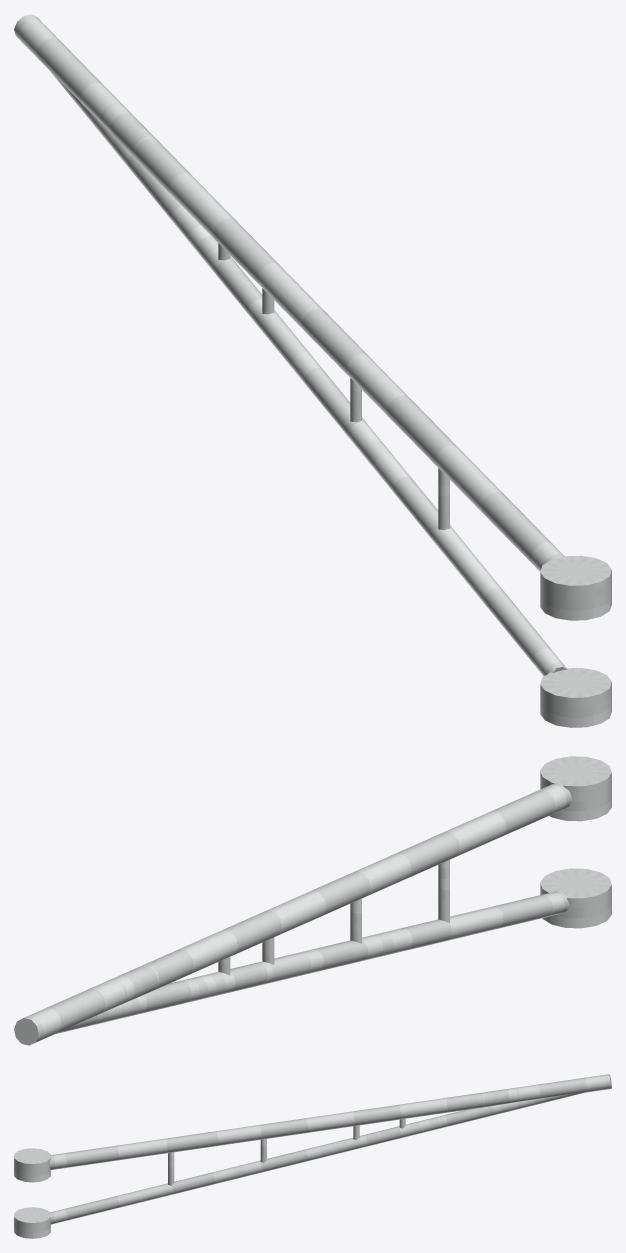
Rendered from trusssignalarm_sloped12_inv.obj.
The picture shows the model from 3 angles, top to bottom: view 1: azimuth 30°, elevation 25°; view 2: azimuth 150°, elevation 25°; view 3: azimuth 270°, elevation 25°; orthographic projection. The views are drawn at different scales.
Visible parts, largest first — view 1: trusssignalarm_sloped12_inv; view 2: trusssignalarm_sloped12_inv; view 3: trusssignalarm_sloped12_inv.
Boxes of the visible parts, x1,y1,x2,y2 form: trusssignalarm_sloped12_inv: (14,14,611,727); trusssignalarm_sloped12_inv: (14,756,611,1045); trusssignalarm_sloped12_inv: (14,1074,611,1238).
Size of the model in its own units: 0.0634 by 0.2875 by 1.
